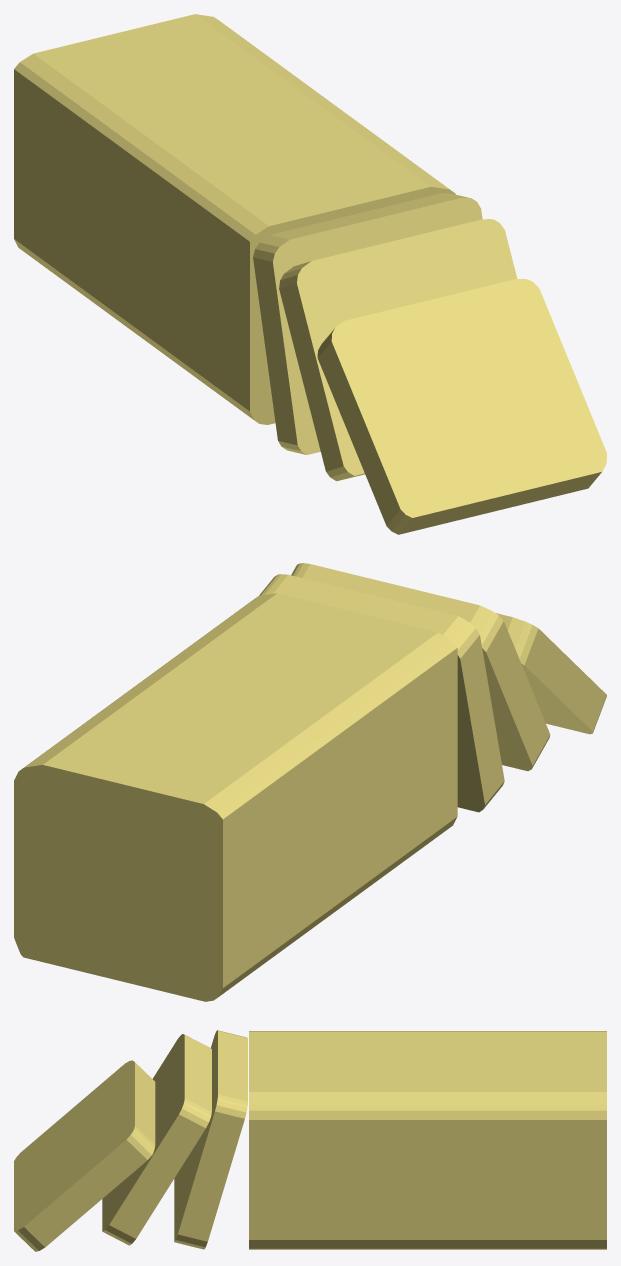
The model's file is butter 1.fbx.
3 views of the same model, one above another, from view 1: azimuth 30°, elevation 25°; view 2: azimuth 150°, elevation 25°; view 3: azimuth 270°, elevation 25° (orthographic). The views are drawn at different scales.
Parts seen in each view (by area): view 1: longbutter, piece1.002, piece1.001, piece1; view 2: longbutter, piece1, piece1.001, piece1.002; view 3: longbutter, piece1.002, piece1.001, piece1.
Part boxes in pixels (x1=…): longbutter: x1=14, y1=14, x2=455, y2=424; piece1.002: x1=317, y1=278, x2=606, y2=534; piece1.001: x1=279, y1=219, x2=517, y2=481; piece1: x1=253, y1=193, x2=482, y2=454; longbutter: x1=14, y1=593, x2=457, y2=1001; piece1: x1=259, y1=574, x2=504, y2=812; piece1.001: x1=291, y1=563, x2=550, y2=771; piece1.002: x1=495, y1=613, x2=606, y2=734; longbutter: x1=249, y1=1031, x2=606, y2=1249; piece1.002: x1=14, y1=1060, x2=155, y2=1251; piece1.001: x1=102, y1=1034, x2=211, y2=1245; piece1: x1=174, y1=1030, x2=247, y2=1249.
Bounding box in the file's own units: 222 × 206 × 714.
